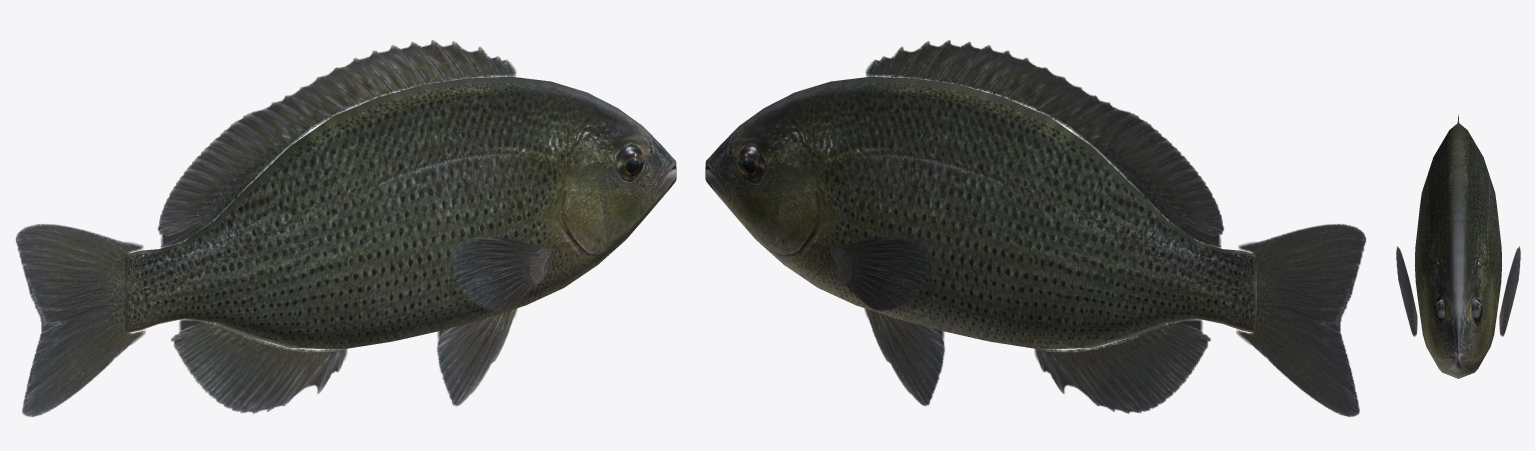
The model's file is kuchibuto_lo.glb.
3 views of the same model, side by side, from view 1: azimuth 30°, elevation 25°; view 2: azimuth 150°, elevation 25°; view 3: azimuth 270°, elevation 25° (orthographic). The views are drawn at different scales.
Parts seen in each view (by area): view 1: kuchibuto; view 2: kuchibuto; view 3: kuchibuto.
Boxes of the visible parts, box(x1,y1,x2,y2) form: kuchibuto: box(15, 40, 676, 416); kuchibuto: box(705, 40, 1366, 416); kuchibuto: box(1396, 114, 1520, 378).
Size of the model in its own units: 0.4001 by 0.2187 by 0.0859.
1 material, 1 textured.
